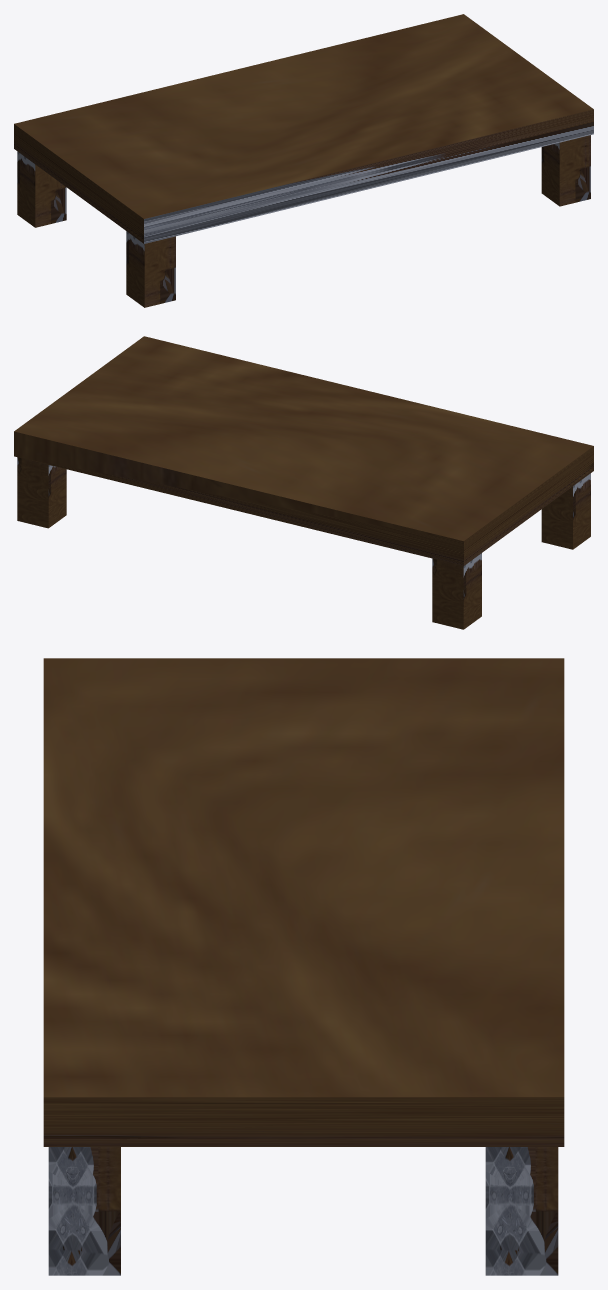
File: sb_obj_DemonsCastle006_DiningTable01_col.fbx
The picture shows the model from 3 angles, top to bottom: view 1: azimuth 30°, elevation 25°; view 2: azimuth 150°, elevation 25°; view 3: azimuth 270°, elevation 25°; orthographic projection. The views are drawn at different scales.
Parts seen in each view (by area): view 1: sb_obj_DemonsCastle006_DiningTable01_col; view 2: sb_obj_DemonsCastle006_DiningTable01_col; view 3: sb_obj_DemonsCastle006_DiningTable01_col.
Boxes of the visible parts, left/top/right/bottom form: sb_obj_DemonsCastle006_DiningTable01_col: left=14, top=14, right=593, bottom=307; sb_obj_DemonsCastle006_DiningTable01_col: left=14, top=336, right=593, bottom=629; sb_obj_DemonsCastle006_DiningTable01_col: left=43, top=658, right=564, bottom=1275.
Size of the model in its own units: 3.19 by 0.6111 by 1.6.
